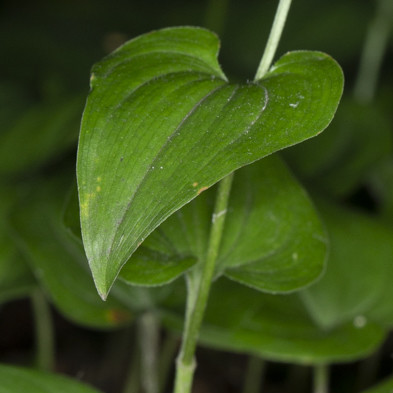obstacle: (63, 43, 353, 379)
